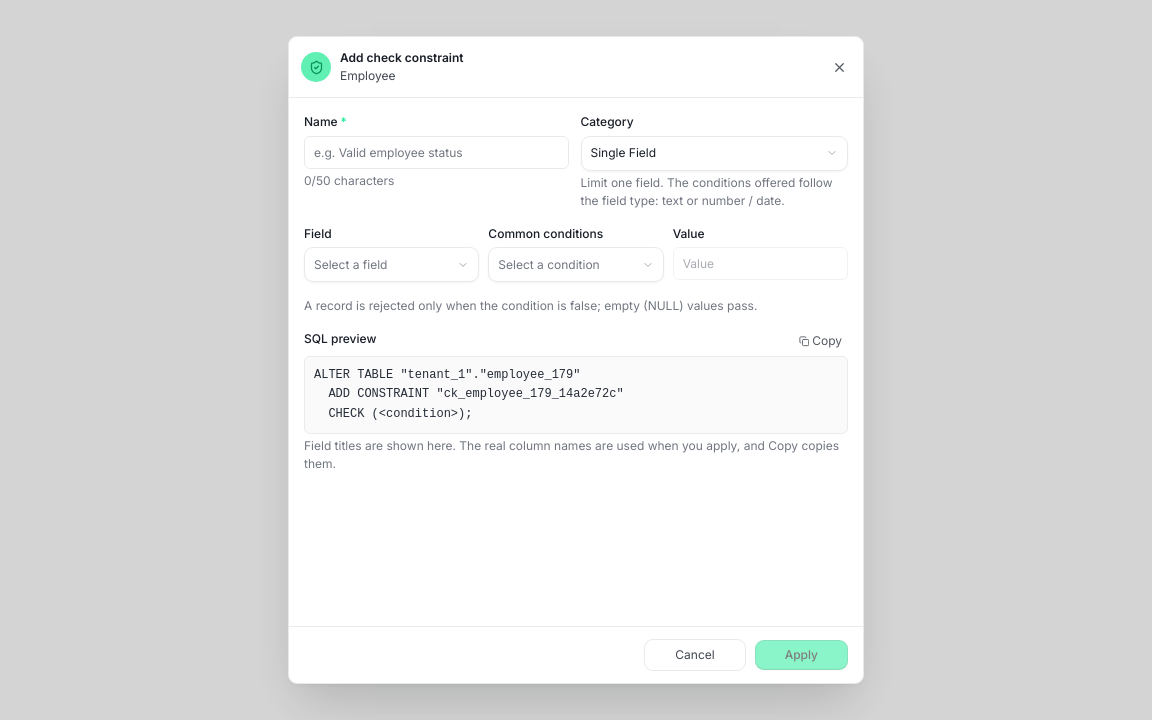
Test: CheckConstraintFormModal › quotes text values and fills the field when it is chosen afterwards
Step 1. Click the button "Select a condition" → (576, 264), box [488,247,664,282]
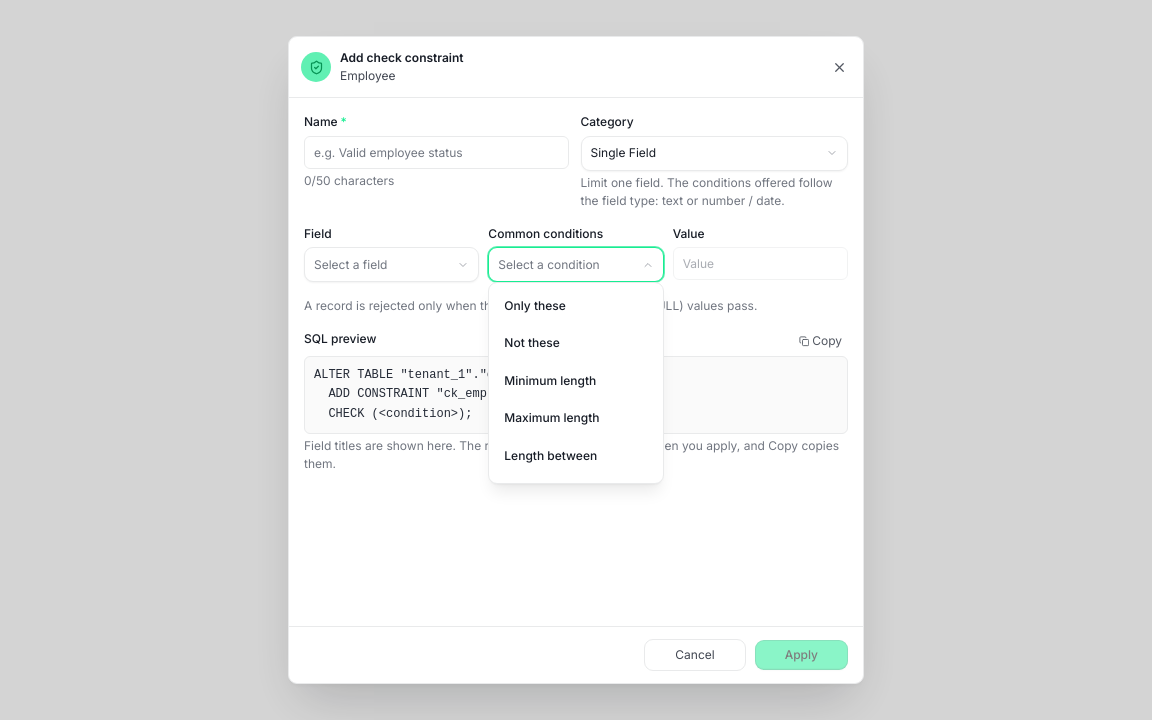
Step 2. Click the text "Only these" → (535, 305), box [504,298,566,312]
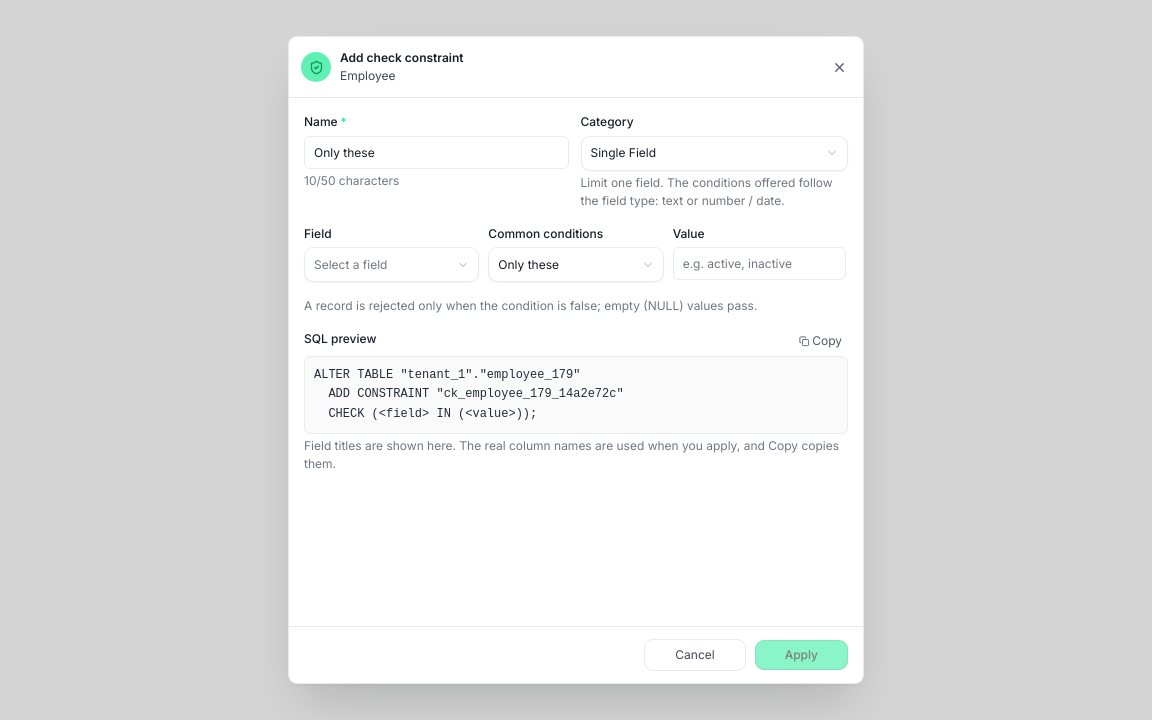
Step 3. Type "active, in active" into the field named "Value" → (760, 264), box [673,247,846,280]
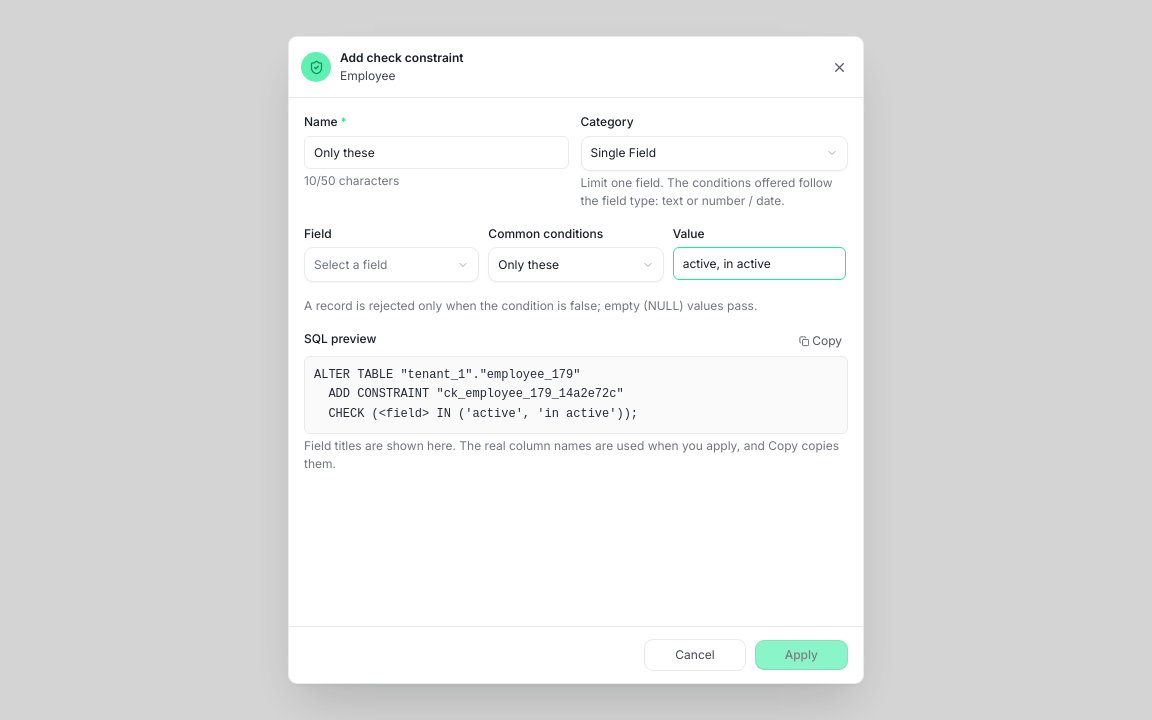
Step 4. Click the button "Select a field" → (392, 264), box [304,247,479,282]
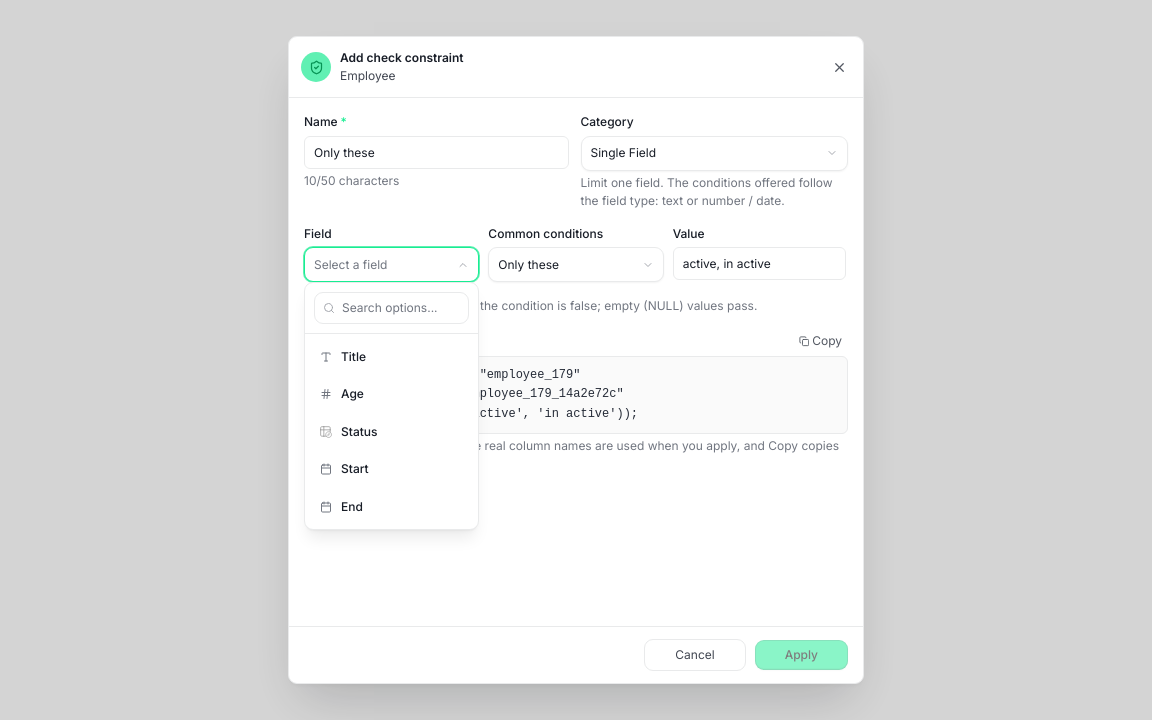
Step 5. Click the text "Status" → (359, 431), box [341,424,378,438]
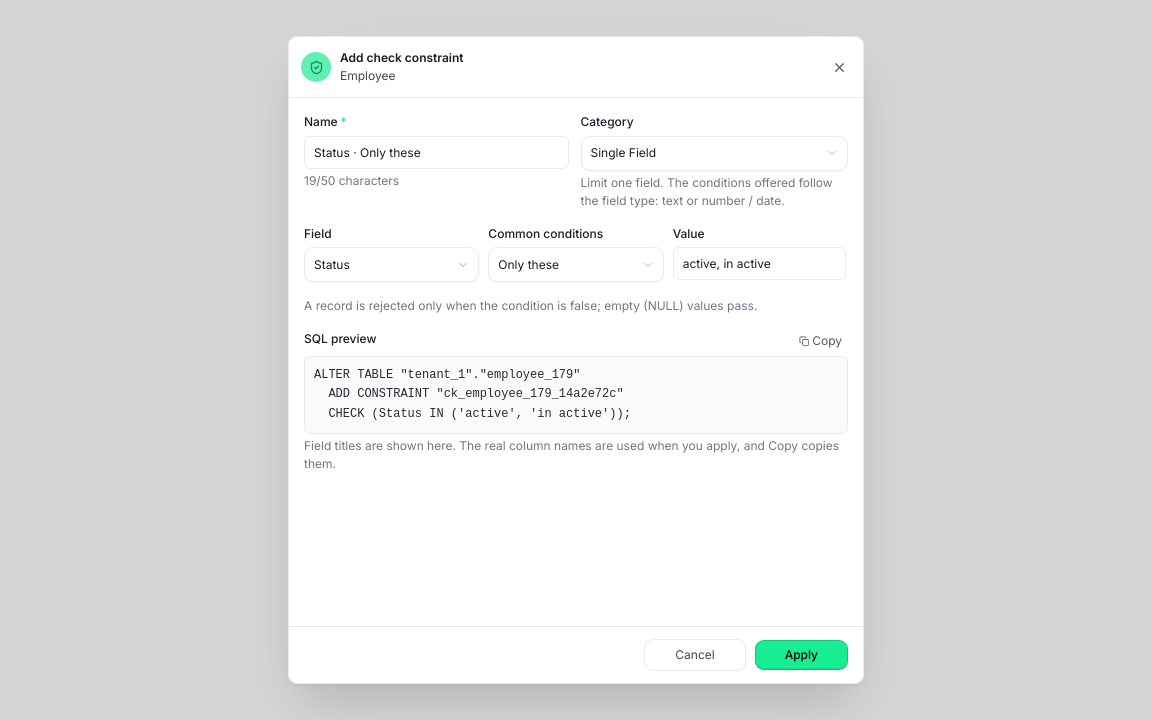
Result: the text named "SQL preview" shows "CHECK (Status IN ('active', 'in active'));" at [314,368,631,420]
